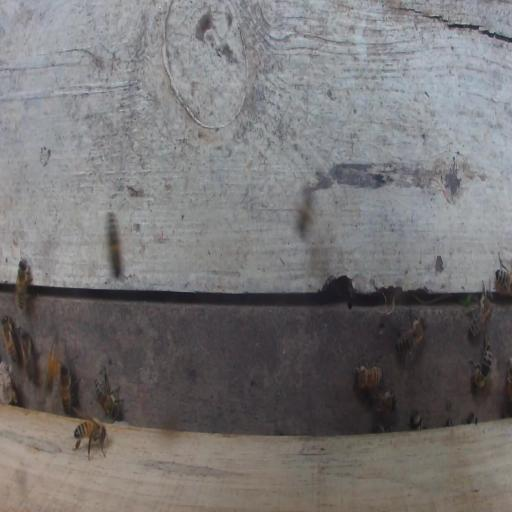bee: (392, 307, 427, 370), (90, 362, 126, 423), (465, 273, 494, 344), (72, 406, 108, 460), (347, 345, 384, 395), (467, 334, 492, 390), (13, 248, 33, 311), (107, 210, 124, 279), (21, 331, 43, 381), (61, 363, 81, 416), (1, 314, 22, 364), (366, 381, 396, 414), (45, 333, 61, 391), (493, 247, 511, 298)
